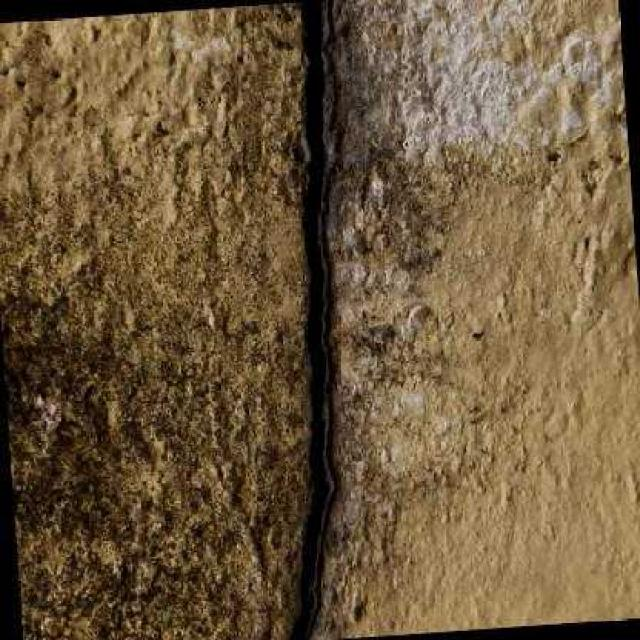D00: (286, 0, 329, 640)
